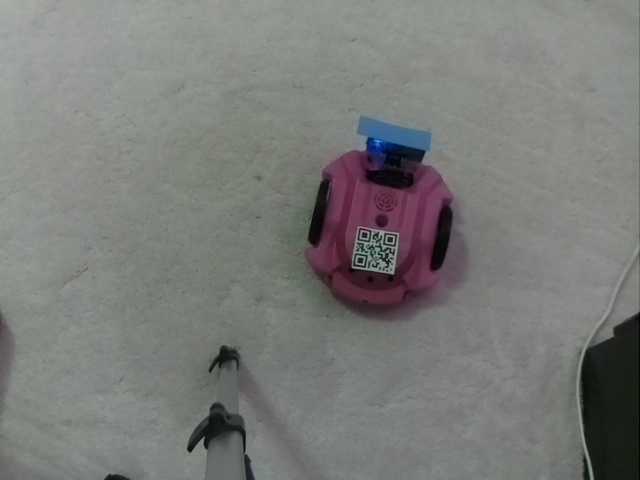chassis: (298, 114, 455, 311)
qr: (349, 220, 405, 281)
